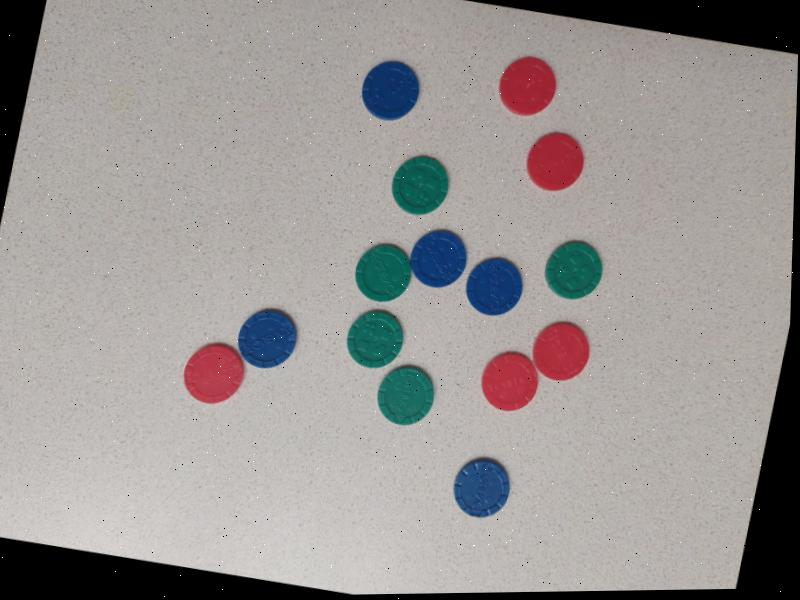Blue_Token: (351, 50, 433, 131), (456, 248, 536, 328), (443, 448, 521, 526), (228, 299, 307, 376), (402, 220, 476, 297)
Green_Token: (380, 145, 459, 226), (366, 357, 447, 436), (336, 301, 416, 377), (536, 231, 613, 309), (344, 235, 420, 310)
Red_Token: (488, 45, 571, 127), (174, 334, 253, 414), (468, 342, 548, 420), (517, 125, 595, 200), (523, 314, 600, 389)
